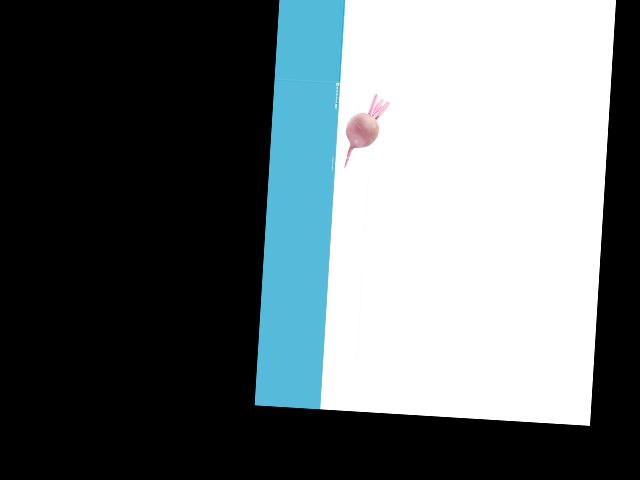beet: (343, 93, 389, 169)
